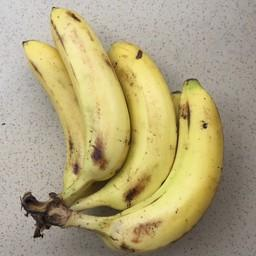Banana Ripe: (61, 37, 230, 256), (89, 20, 178, 203), (46, 3, 132, 183), (10, 30, 86, 196)
